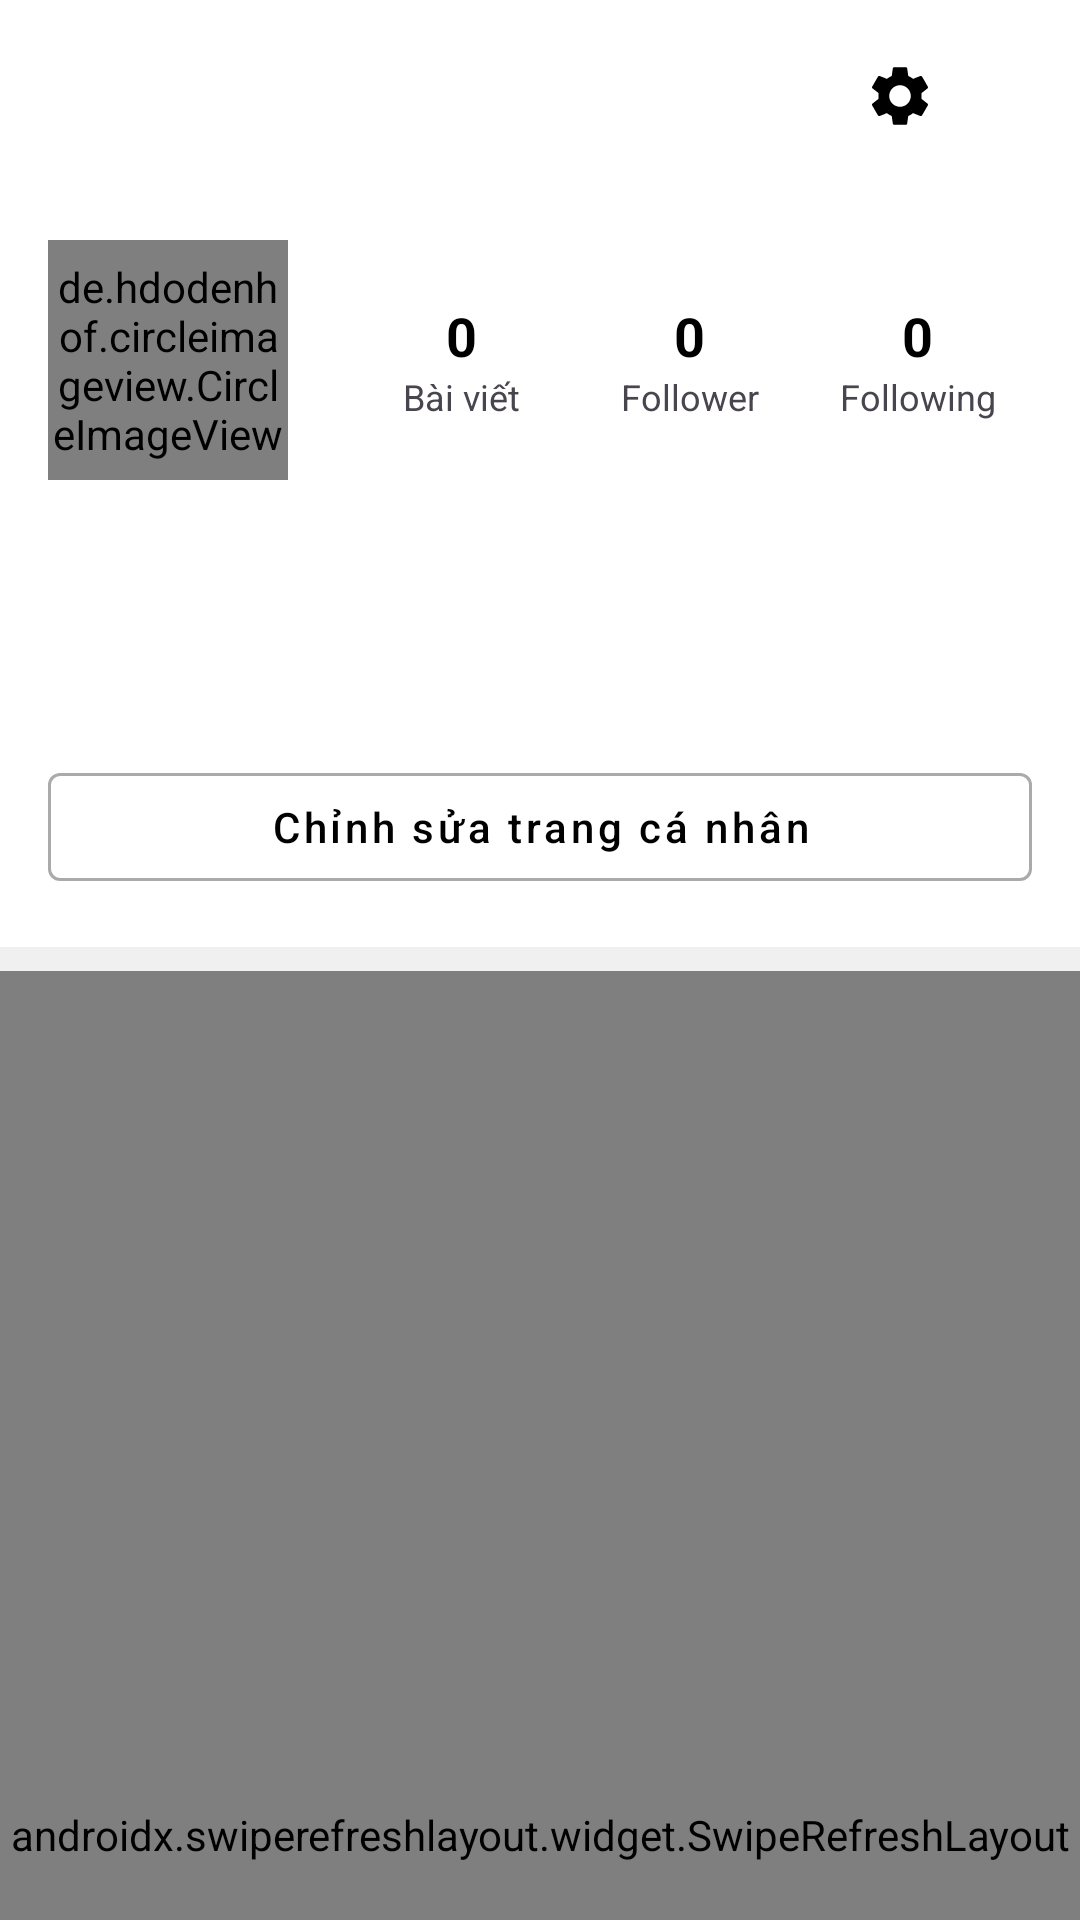

Named icons in this screenshot (1080px x 1920px) and their bounding boxes, (x1, y1, x2, y2):
settings: (872, 67, 928, 125)
